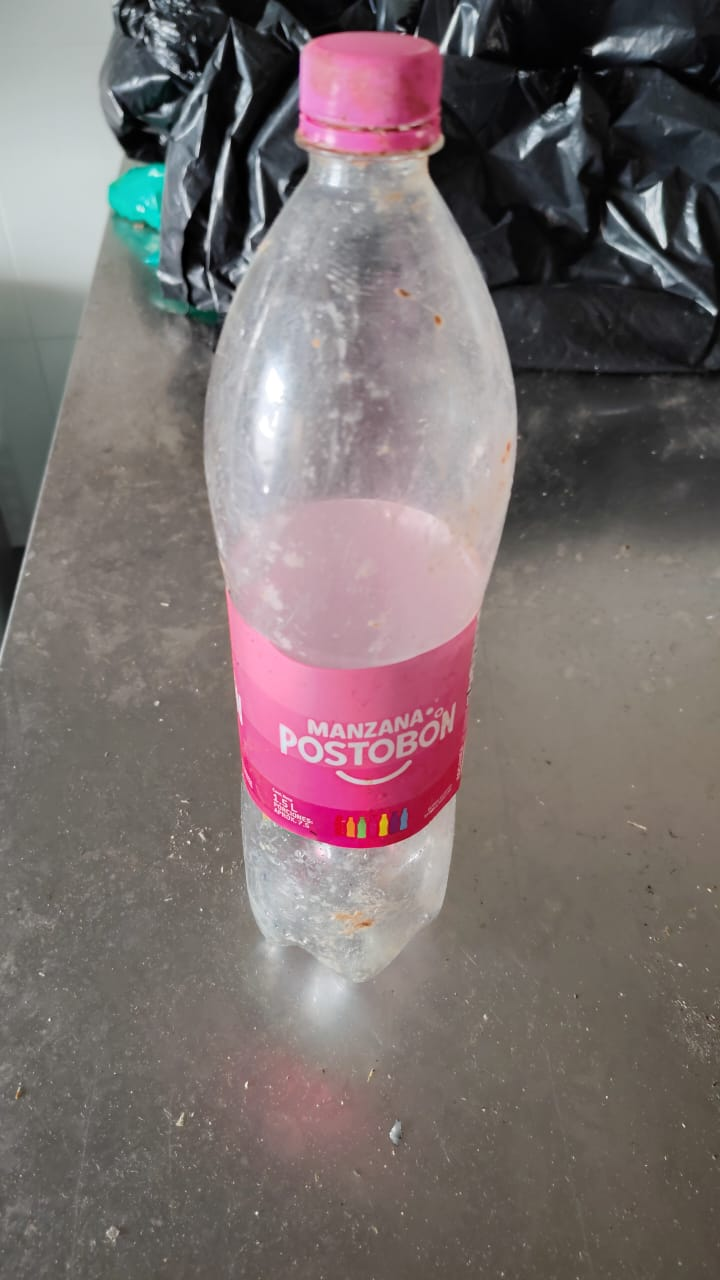Plastico: (205, 32, 514, 985)
